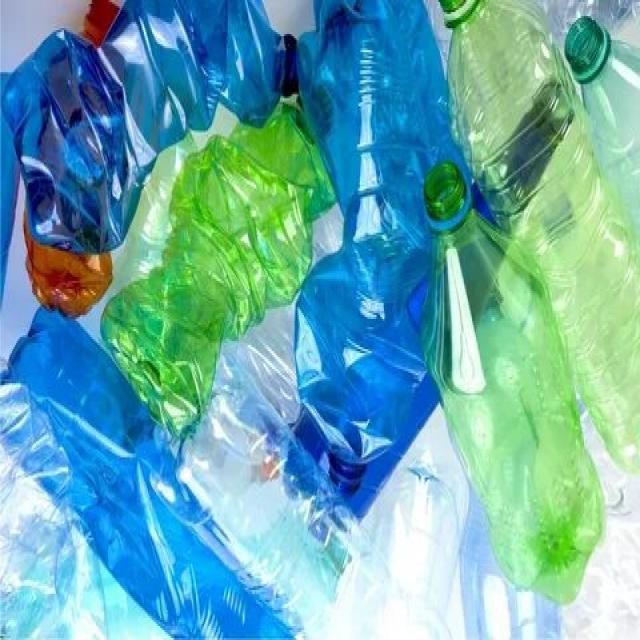blue: (293, 0, 469, 465), (0, 0, 283, 252)
green: (434, 0, 640, 475), (421, 159, 606, 609), (99, 100, 338, 440)
